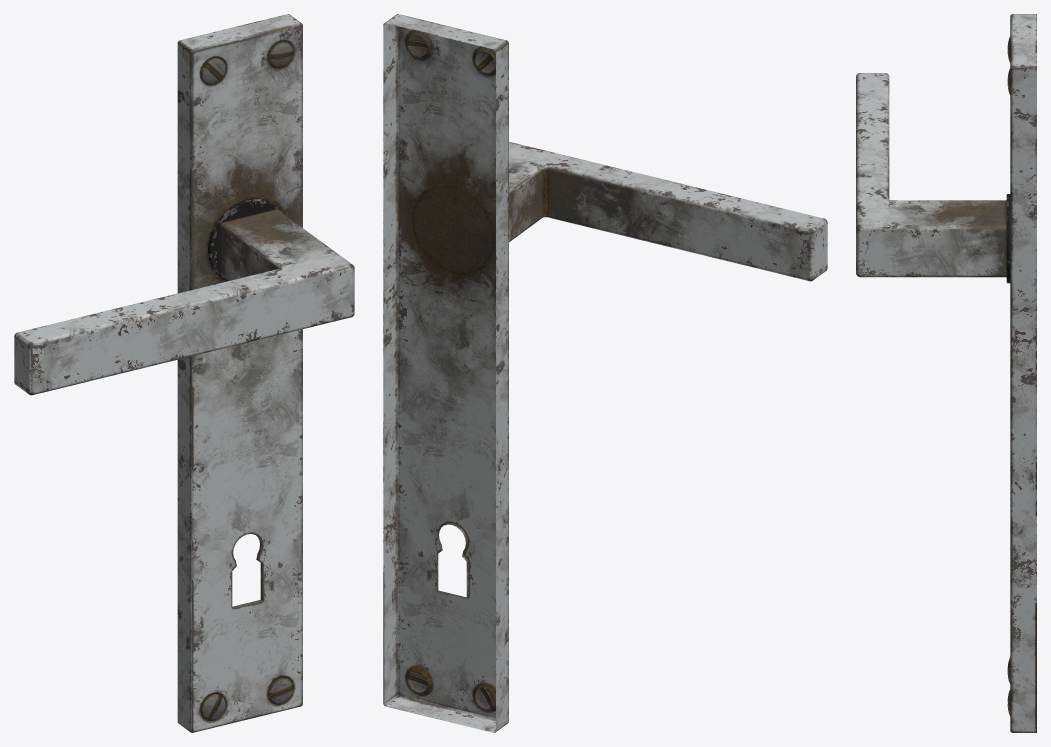
The model's file is item1.glb.
The picture shows the model from 3 angles, left to right: view 1: azimuth 30°, elevation 25°; view 2: azimuth 150°, elevation 25°; view 3: azimuth 270°, elevation 25°; orthographic projection. The views are drawn at different scales.
Parts seen in each view (by area): view 1: panel, handle, base, pSphere1, pSphere2, pSphere4; view 2: panel, handle; view 3: panel, handle, base.
Part boxes in pixels (x1=…): panel: x1=177, y1=14, x2=302, y2=732; handle: x1=14, y1=209, x2=354, y2=395; base: x1=208, y1=198, x2=283, y2=281; pSphere1: x1=200, y1=57, x2=225, y2=84; pSphere2: x1=268, y1=41, x2=293, y2=68; pSphere4: x1=268, y1=677, x2=293, y2=704; panel: x1=383, y1=14, x2=508, y2=732; handle: x1=509, y1=141, x2=827, y2=281; panel: x1=1010, y1=14, x2=1036, y2=732; handle: x1=856, y1=73, x2=1006, y2=277; base: x1=1006, y1=194, x2=1010, y2=283.
Size of the model in its own units: 11.9 by 22 by 5.41.
1 material, 1 textured.
